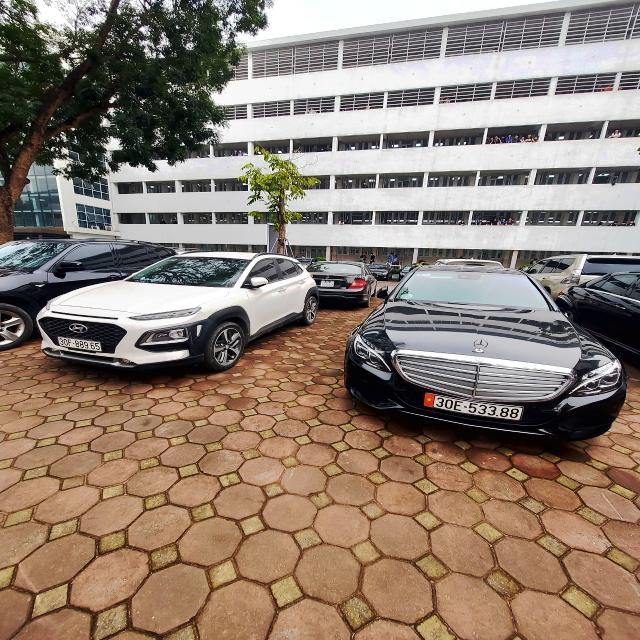license_plate: (424, 394, 524, 422), (58, 338, 103, 353), (322, 281, 335, 288)
